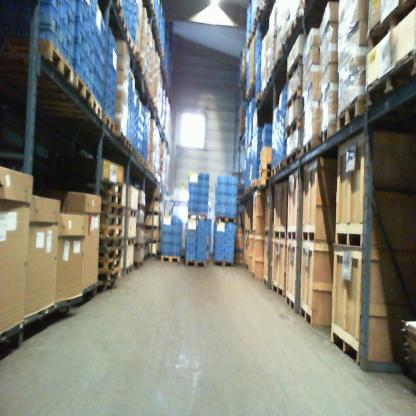pallet: (1, 37, 73, 85), (365, 47, 416, 109), (367, 0, 416, 56), (31, 71, 96, 109), (40, 96, 102, 120), (337, 95, 372, 134), (331, 320, 360, 366), (335, 221, 364, 249), (318, 122, 340, 147), (299, 298, 315, 330), (302, 223, 327, 243), (286, 53, 302, 84), (288, 7, 304, 38), (285, 85, 302, 113), (284, 117, 303, 140), (101, 178, 124, 197), (99, 223, 124, 239), (301, 136, 320, 157), (100, 214, 123, 231), (99, 245, 124, 260), (98, 254, 123, 269), (99, 236, 125, 249), (101, 191, 123, 205), (101, 203, 123, 217), (97, 269, 122, 281), (118, 10, 129, 36), (286, 148, 301, 167), (103, 112, 115, 135), (285, 289, 295, 312), (127, 30, 136, 55), (273, 226, 287, 240), (185, 259, 206, 268), (213, 259, 234, 268), (215, 215, 236, 224), (272, 281, 283, 297), (259, 147, 272, 160), (160, 255, 181, 263), (187, 213, 208, 221), (287, 225, 297, 241), (112, 0, 123, 14), (277, 158, 287, 173), (124, 235, 136, 247), (115, 130, 125, 144), (259, 163, 272, 173), (127, 207, 138, 218), (254, 92, 262, 106), (123, 265, 133, 276), (258, 171, 269, 180), (125, 138, 132, 151), (134, 242, 144, 251), (258, 177, 266, 187), (134, 261, 144, 269), (263, 277, 269, 290), (142, 158, 148, 170), (137, 203, 146, 211), (250, 179, 258, 188), (265, 227, 271, 238), (137, 153, 143, 164), (136, 223, 144, 231), (271, 167, 277, 177), (248, 81, 254, 91), (132, 147, 137, 158), (243, 261, 249, 270), (245, 227, 250, 236), (252, 227, 256, 236), (251, 271, 255, 280), (245, 187, 250, 194)
small_load_carrier: (31, 12, 63, 54), (39, 2, 66, 27), (74, 50, 91, 83), (75, 3, 91, 38), (74, 29, 90, 57), (106, 46, 119, 70), (76, 1, 93, 19), (105, 60, 118, 80), (108, 33, 119, 55), (186, 201, 200, 217), (104, 104, 115, 121), (106, 73, 116, 91), (105, 92, 115, 109), (107, 84, 116, 102), (172, 224, 184, 236), (160, 244, 172, 256), (185, 223, 197, 234), (228, 206, 238, 219), (188, 174, 199, 185), (185, 233, 196, 244), (172, 234, 183, 245), (227, 193, 237, 205), (216, 195, 228, 205), (162, 233, 172, 245), (199, 204, 208, 217), (224, 220, 237, 229), (172, 215, 185, 224), (172, 245, 181, 258), (213, 222, 227, 230), (216, 205, 227, 215), (218, 184, 228, 195), (188, 184, 198, 195), (197, 233, 207, 244), (185, 253, 197, 262), (224, 228, 236, 237), (186, 194, 199, 202), (228, 175, 238, 185), (201, 180, 211, 190), (218, 175, 229, 184), (196, 244, 207, 253), (185, 244, 196, 253), (224, 242, 235, 251), (162, 216, 172, 225), (212, 250, 223, 258), (213, 230, 227, 236), (213, 236, 225, 243), (197, 225, 207, 233), (196, 253, 206, 261), (162, 225, 172, 233), (212, 243, 225, 249), (228, 185, 237, 193), (200, 195, 208, 204), (224, 237, 236, 243), (224, 251, 235, 257), (198, 217, 206, 225), (200, 190, 211, 195), (201, 173, 208, 180)
